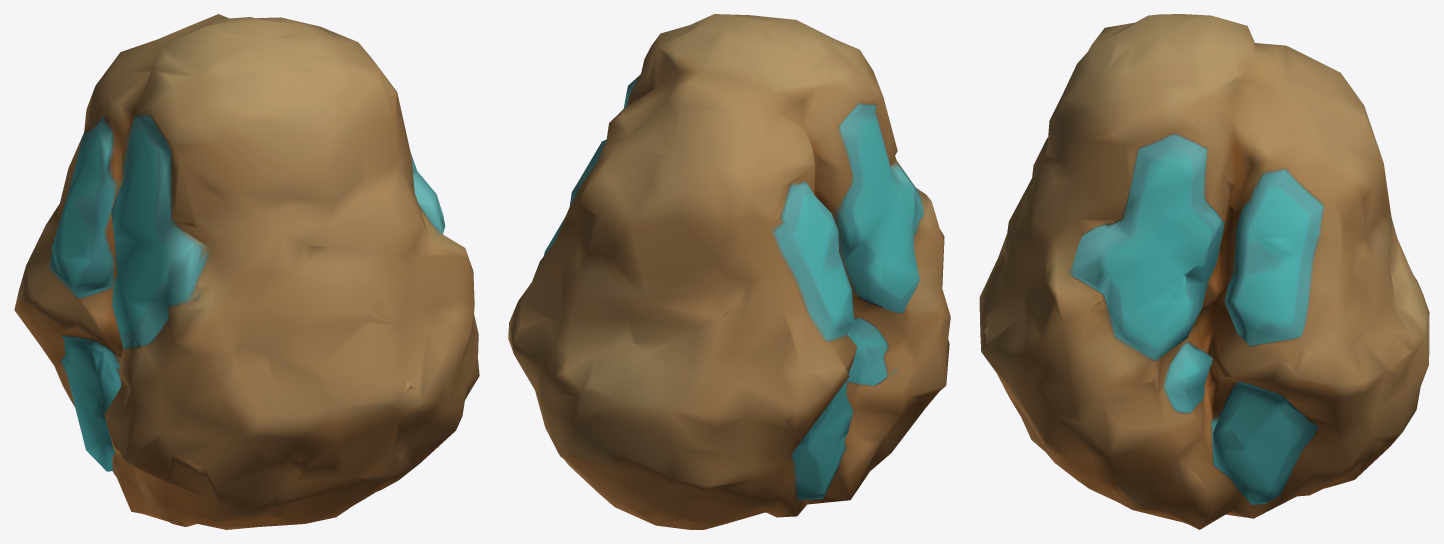
The model's file is textures.glb.
3 views of the same model, side by side, from view 1: azimuth 30°, elevation 25°; view 2: azimuth 150°, elevation 25°; view 3: azimuth 270°, elevation 25° (orthographic). The views are drawn at different scales.
Visible parts, largest first — view 1: tripo_node_d72f675b-604c-477d-b7cc-485510f2187a; view 2: tripo_node_d72f675b-604c-477d-b7cc-485510f2187a; view 3: tripo_node_d72f675b-604c-477d-b7cc-485510f2187a.
Boxes of the visible parts, x1,y1,x2,y2 form: tripo_node_d72f675b-604c-477d-b7cc-485510f2187a: (14, 14, 479, 529); tripo_node_d72f675b-604c-477d-b7cc-485510f2187a: (508, 14, 950, 529); tripo_node_d72f675b-604c-477d-b7cc-485510f2187a: (979, 14, 1429, 529).
Size of the model in its own units: 0.789 by 1 by 0.9203.
Materials: 1 (1 with a texture image).
